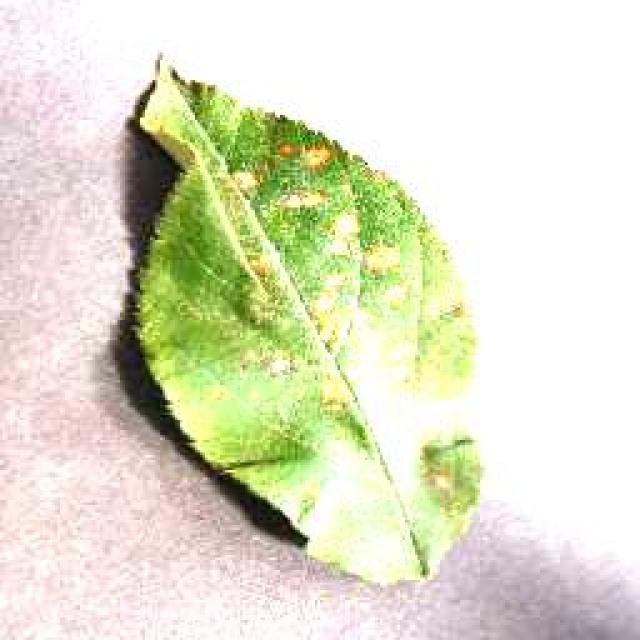apple healthy: (113, 50, 485, 585)
